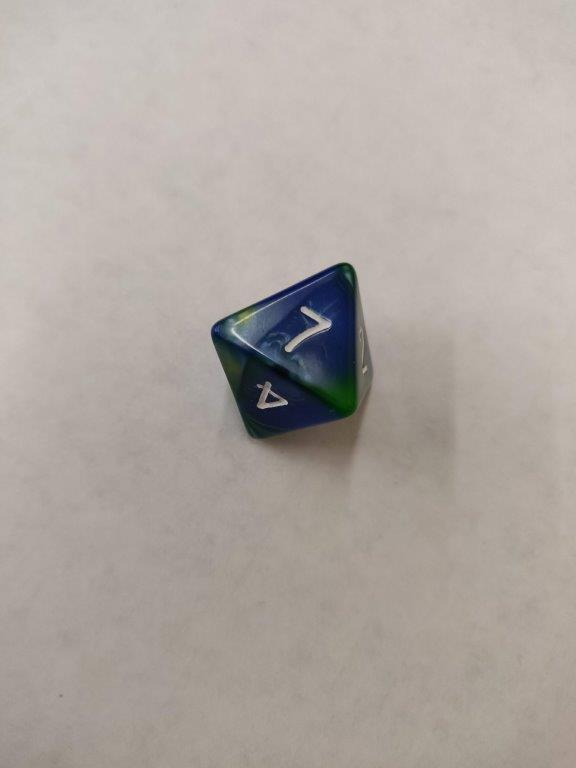d8-7: (210, 261, 374, 444)
